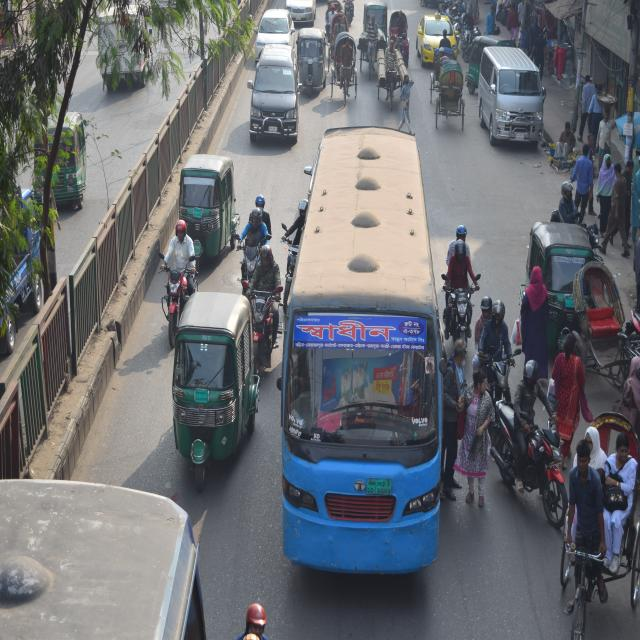bus: (280, 118, 446, 591), (0, 475, 211, 640)
car: (252, 1, 293, 56), (284, 0, 316, 25)
microbus: (472, 39, 548, 151), (250, 47, 303, 135)
motorbike: (490, 381, 576, 527), (145, 236, 193, 343), (438, 246, 476, 355), (475, 322, 518, 406), (247, 276, 281, 379), (231, 224, 267, 294)
pickup-van: (0, 181, 58, 358), (96, 5, 153, 104)
